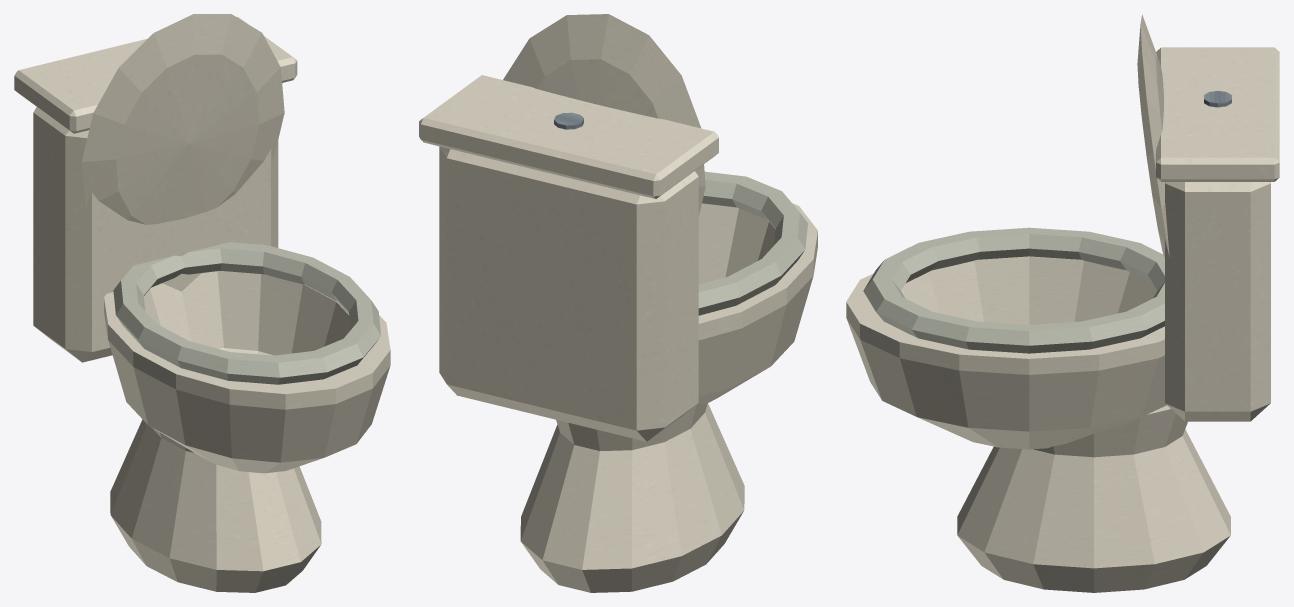
Rendered from MD_93_Toilet.fbx.
3 renders of one model, left to right at view 1: azimuth 30°, elevation 25°; view 2: azimuth 150°, elevation 25°; view 3: azimuth 270°, elevation 25°, orthographic. The views are drawn at different scales.
Visible parts, largest first — view 1: MD_93_Toilet_hollow_wc_bowl, MD_93_Toilet_hinged_toilet_lid, MD_93_Toilet_cistern, MD_93_Toilet_toilet_pedestal, MD_93_Toilet_separate_toilet_seat, MD_93_Toilet_cistern_lid; view 2: MD_93_Toilet_cistern, MD_93_Toilet_toilet_pedestal, MD_93_Toilet_cistern_lid, MD_93_Toilet_hollow_wc_bowl, MD_93_Toilet_hinged_toilet_lid, MD_93_Toilet_separate_toilet_seat; view 3: MD_93_Toilet_hollow_wc_bowl, MD_93_Toilet_toilet_pedestal, MD_93_Toilet_cistern, MD_93_Toilet_separate_toilet_seat, MD_93_Toilet_cistern_lid, MD_93_Toilet_hinged_toilet_lid.
Part boxes in pixels (x1,y1,x2,y2): MD_93_Toilet_hollow_wc_bowl: [104, 271, 390, 473]; MD_93_Toilet_hinged_toilet_lid: [81, 14, 284, 224]; MD_93_Toilet_cistern: [33, 107, 278, 362]; MD_93_Toilet_toilet_pedestal: [110, 419, 321, 592]; MD_93_Toilet_separate_toilet_seat: [113, 242, 381, 384]; MD_93_Toilet_cistern_lid: [14, 16, 297, 133]; MD_93_Toilet_cistern: [439, 146, 698, 441]; MD_93_Toilet_toilet_pedestal: [520, 403, 744, 592]; MD_93_Toilet_cistern_lid: [419, 75, 718, 198]; MD_93_Toilet_hollow_wc_bowl: [698, 203, 817, 404]; MD_93_Toilet_hinged_toilet_lid: [503, 14, 705, 216]; MD_93_Toilet_separate_toilet_seat: [698, 171, 807, 315]; MD_93_Toilet_hollow_wc_bowl: [846, 256, 1166, 449]; MD_93_Toilet_toilet_pedestal: [957, 405, 1230, 592]; MD_93_Toilet_cistern: [1165, 182, 1270, 421]; MD_93_Toilet_separate_toilet_seat: [863, 227, 1164, 353]; MD_93_Toilet_cistern_lid: [1156, 47, 1279, 181]; MD_93_Toilet_hinged_toilet_lid: [1137, 14, 1169, 257].
Bounding box in the file's own units: 0.46 × 1 × 0.7355.
Materials: 3 (3 with a texture image).
